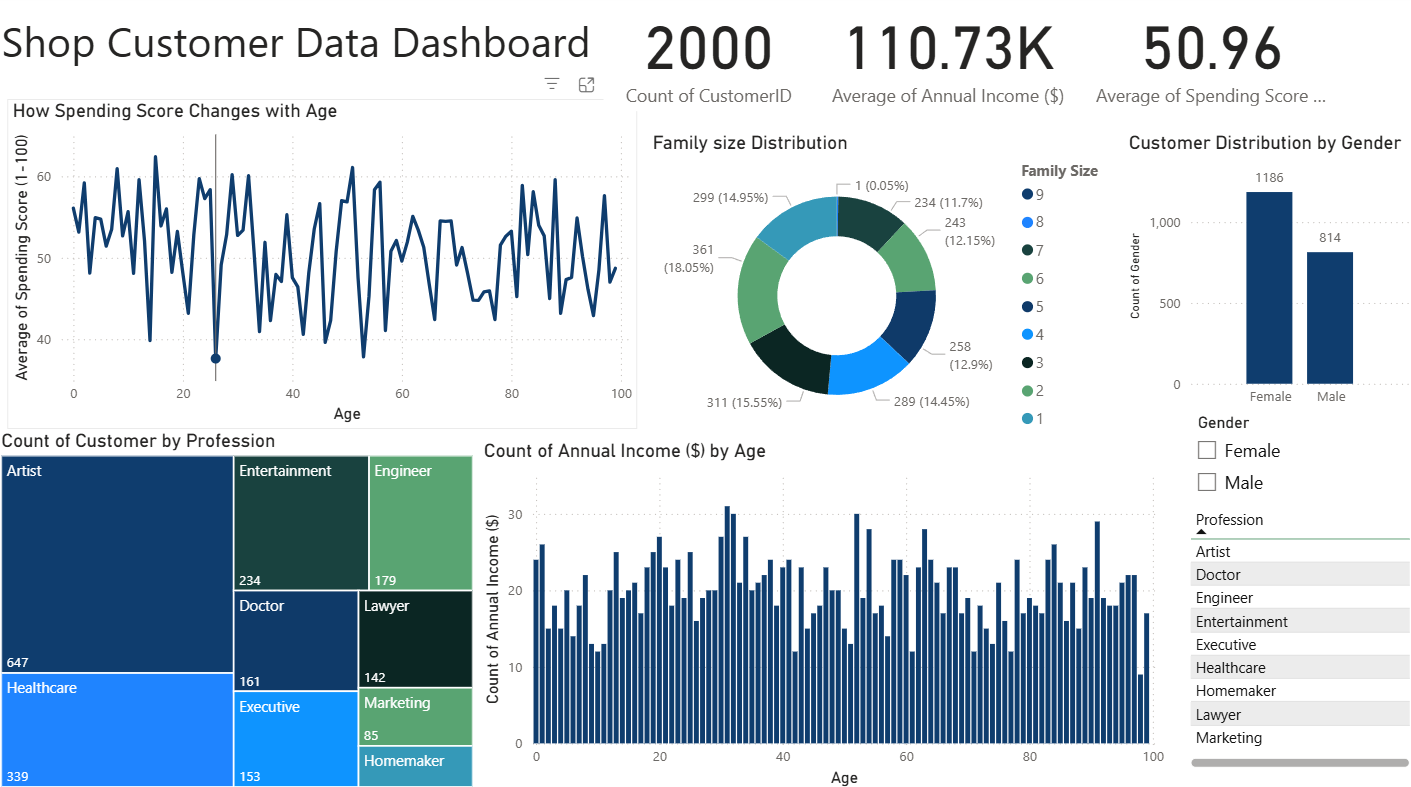

This screenshot's page, from the dashboard's own definition file:
{"tool":"powerbi","page":{"name":"Page 1","canvas":[1280,720],"ordinal":0},"visuals":[{"type":"treemap","title":"Count of Customer by Profession","fields":{"Group":["customers_clean.Profession"],"Values":["CountNonNull(customers_clean.CustomerID)"]},"box":[0,392.5,435,328],"z":0},{"type":"columnChart","title":"Customer Distribution by Gender","fields":{"Category":["customers_clean.Gender"],"Y":["CountNonNull(customers_clean.Gender)"]},"box":[1016.3,124.4,263.7,267.5],"z":1000},{"type":"lineChart","title":"How Spending Score Changes with Age","fields":{"Category":["customers_clean.Age"],"Y":["Avg(customers_clean.Spending Score (1-100))"]},"box":[10,94.5,568.5,297.3],"z":2000},{"type":"textbox","box":[0,12.4,562.3,61],"z":3000},{"type":"card","fields":{"Values":["CountNonNull(customers_clean.CustomerID)"]},"box":[547.3,0,190.3,105.7],"z":4000},{"type":"lineStackedColumnComboChart","fields":{"Category":["customers_clean.Age"],"Y":["CountNonNull(customers_clean.Annual Income ($))"]},"box":[435.4,401.8,624.5,318.5],"z":5000},{"type":"card","fields":{"Values":["Avg(customers_clean.Annual Income ($))"]},"box":[747.6,0,222.7,105.7],"z":6000},{"type":"card","fields":{"Values":["Avg(customers_clean.Spending Score (1-100))"]},"box":[985.2,0,221.4,105.7],"z":7000},{"type":"slicer","fields":{"Values":["customers_clean.Gender"]},"box":[1071,373.2,209,93.3],"z":8000},{"type":"tableEx","fields":{"Values":["customers_clean.Profession"]},"box":[1071,457.8,209,245.1],"z":9000},{"type":"donutChart","title":"Family size Distribution","fields":{"Category":["customers_clean.Family Size"],"Y":["CountNonNull(customers_clean.CustomerID)"]},"box":[587.1,124.4,429.2,277.4],"z":10000}]}

Visuals, with their boxes in screenshot pixels (x1, y1, x2, y2), scaled from the page's 1280x720 canvas onto the 1411x787 screenshot:
"Count of Customer by Profession" treemap: detection(0, 429, 480, 786)
"Customer Distribution by Gender" columnChart: detection(1120, 136, 1410, 428)
"How Spending Score Changes with Age" lineChart: detection(11, 103, 638, 428)
textbox: detection(0, 14, 620, 80)
card - CountNonNull(customers_clean.CustomerID): detection(603, 0, 813, 116)
lineStackedColumnComboChart - customers_clean.Age x CountNonNull(customers_clean.Annual Income ($)): detection(480, 439, 1168, 786)
card - Avg(customers_clean.Annual Income ($)): detection(824, 0, 1070, 116)
card - Avg(customers_clean.Spending Score (1-100)): detection(1086, 0, 1330, 116)
slicer - customers_clean.Gender: detection(1181, 408, 1410, 510)
tableEx - customers_clean.Profession: detection(1181, 500, 1410, 768)
"Family size Distribution" donutChart: detection(647, 136, 1120, 439)
